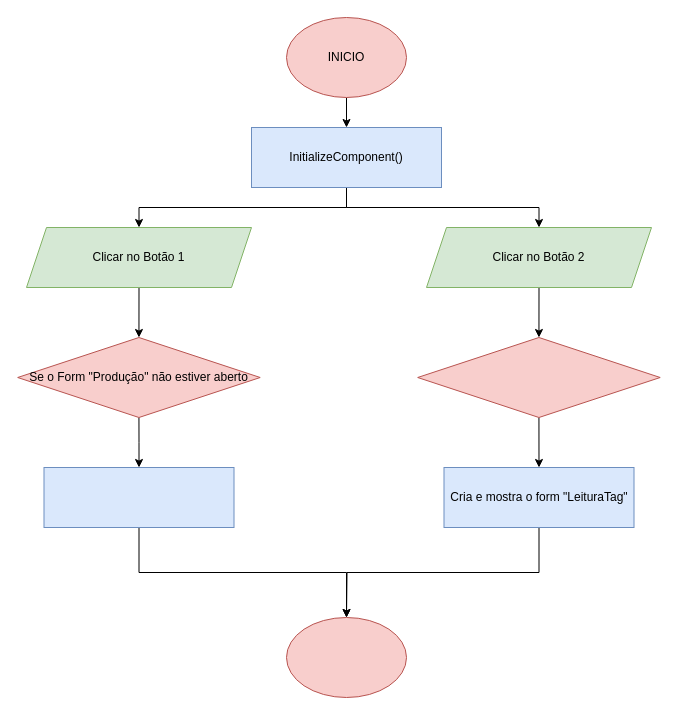
Image size: 678x715. Some labels were removed from this diagram. Here are the shapes that lost their labels. From the top down, the centre of each, then its label:
point (538, 377): Se o Form "LeituraTag" não estiver aberto
point (138, 497): Cria e mostra o form "Produção"
point (346, 657): FIM
